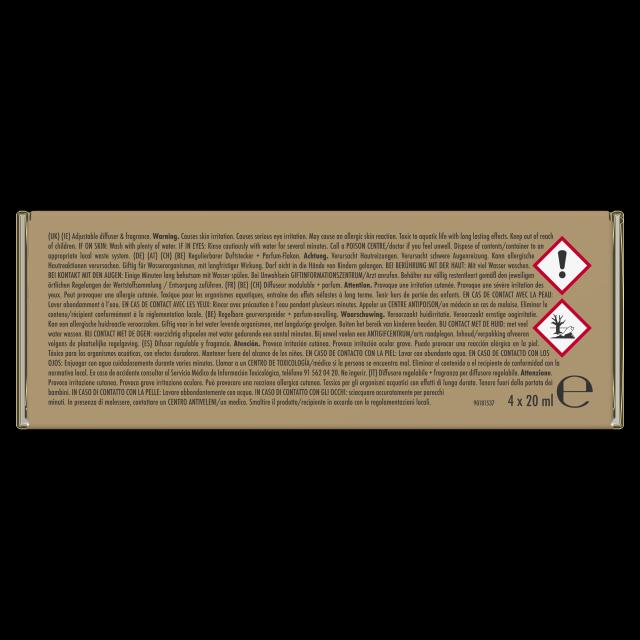GHS_Symbol_ENVIRONMENT: (533, 297, 593, 358)
GHS_Symbol_EXCLAMATION_MARK: (534, 236, 592, 295)
